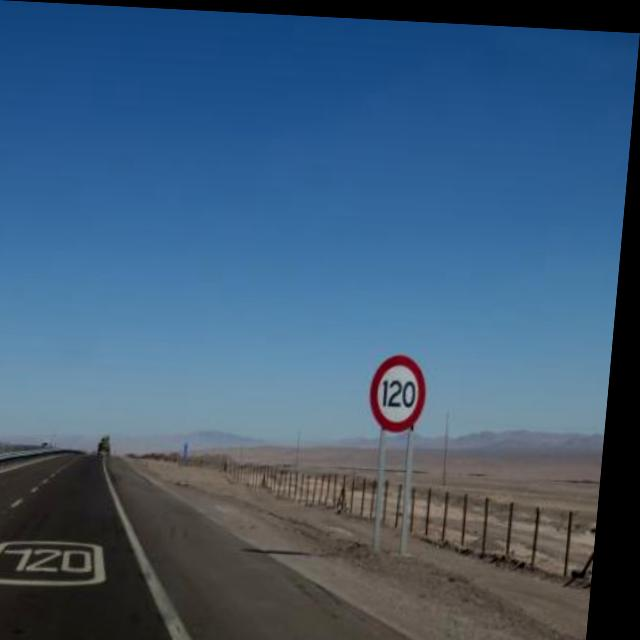limit120: (368, 341, 440, 438)
